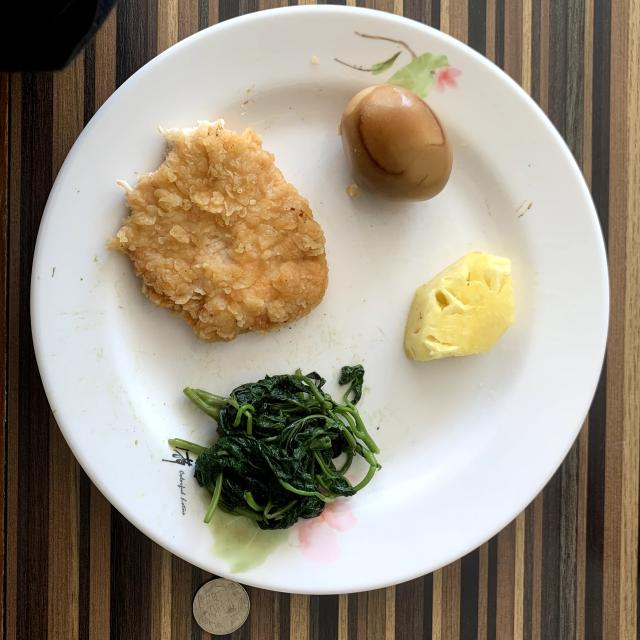coin: (192, 579, 250, 635)
fried chicken cutlet: (106, 120, 329, 342)
pineapple: (404, 252, 515, 361)
soy egg: (340, 84, 452, 201)
sweet potato leaves: (169, 365, 380, 530)
